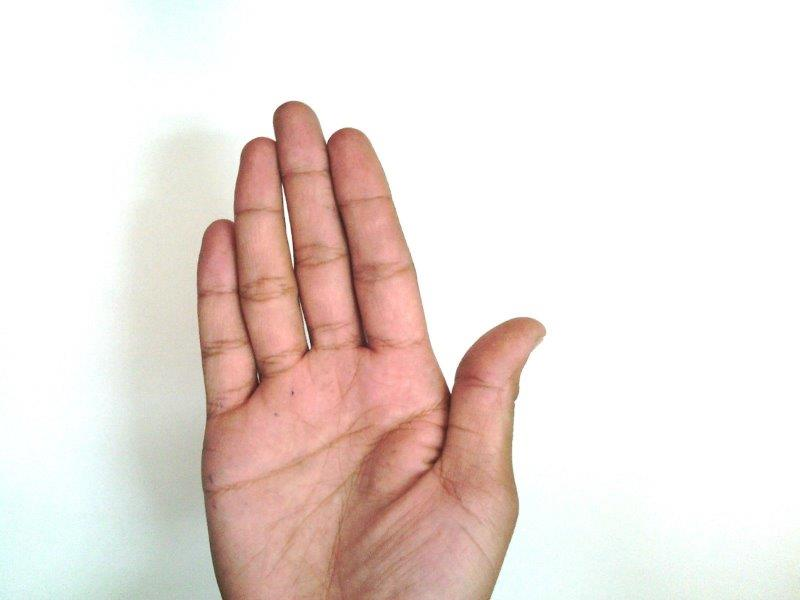hand: (196, 101, 547, 600)
